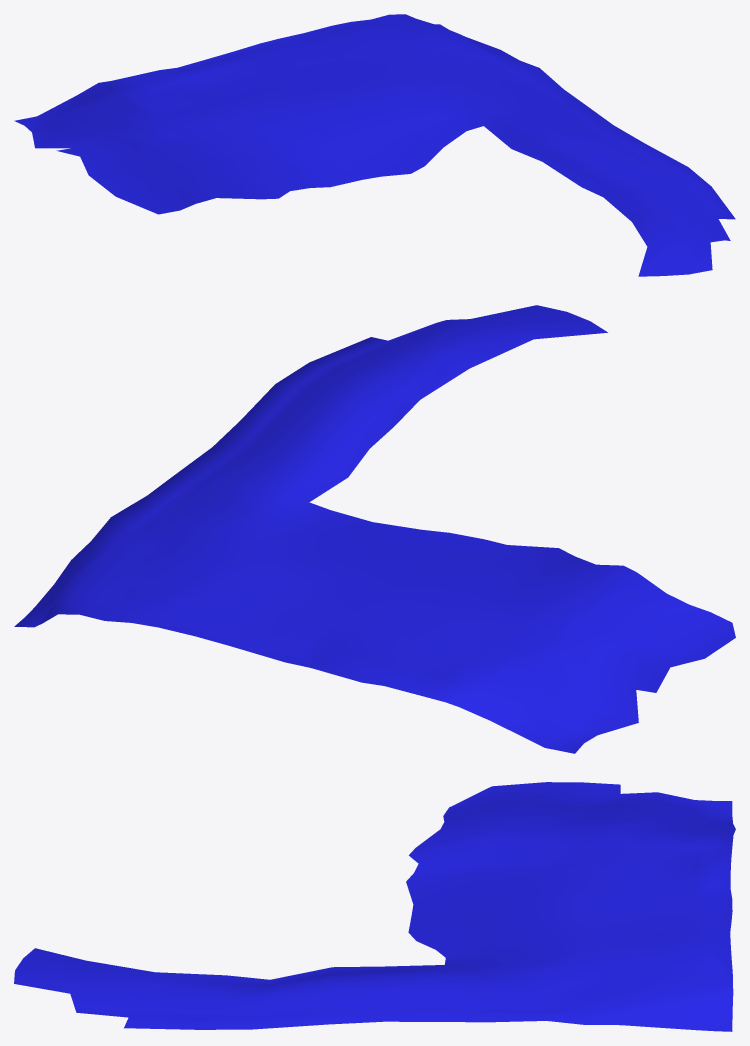
Rendered from small_beach_02.fbx.
3 views of the same model, one above another, from view 1: azimuth 30°, elevation 25°; view 2: azimuth 150°, elevation 25°; view 3: azimuth 270°, elevation 25° (orthographic). The views are drawn at different scales.
Parts seen in each view (by area): view 1: terrain_beach_official_uv_Flatter_2_after_feedback_chop; view 2: terrain_beach_official_uv_Flatter_2_after_feedback_chop; view 3: terrain_beach_official_uv_Flatter_2_after_feedback_chop.
Part boxes in pixels (x1,y1,x2,y2): terrain_beach_official_uv_Flatter_2_after_feedback_chop: [14, 14, 735, 276]; terrain_beach_official_uv_Flatter_2_after_feedback_chop: [14, 305, 735, 753]; terrain_beach_official_uv_Flatter_2_after_feedback_chop: [14, 782, 735, 1031].
Bounding box in the file's own units: 258 × 15.75 × 323.
